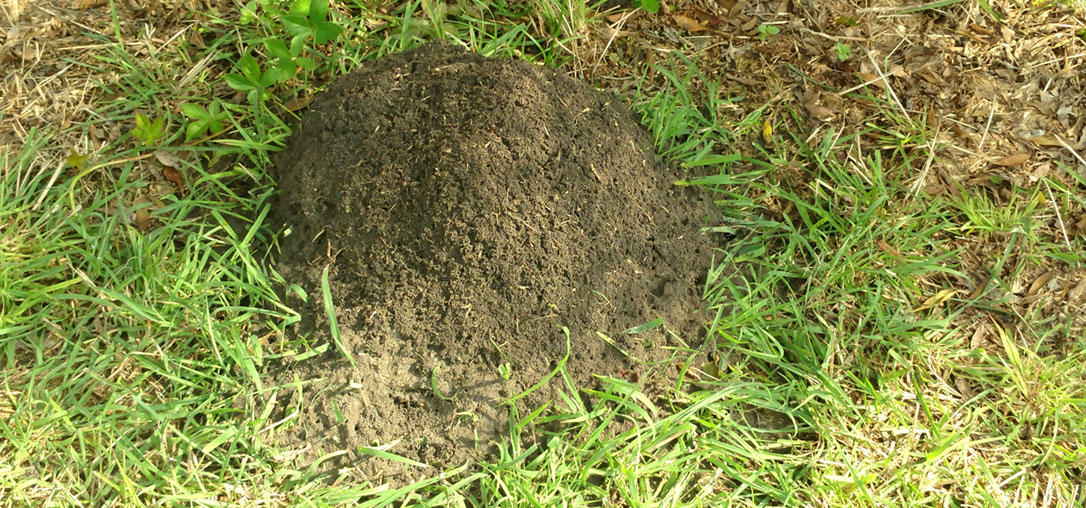dirt: (276, 52, 705, 396)
grass: (722, 166, 1075, 499), (0, 174, 270, 498)
